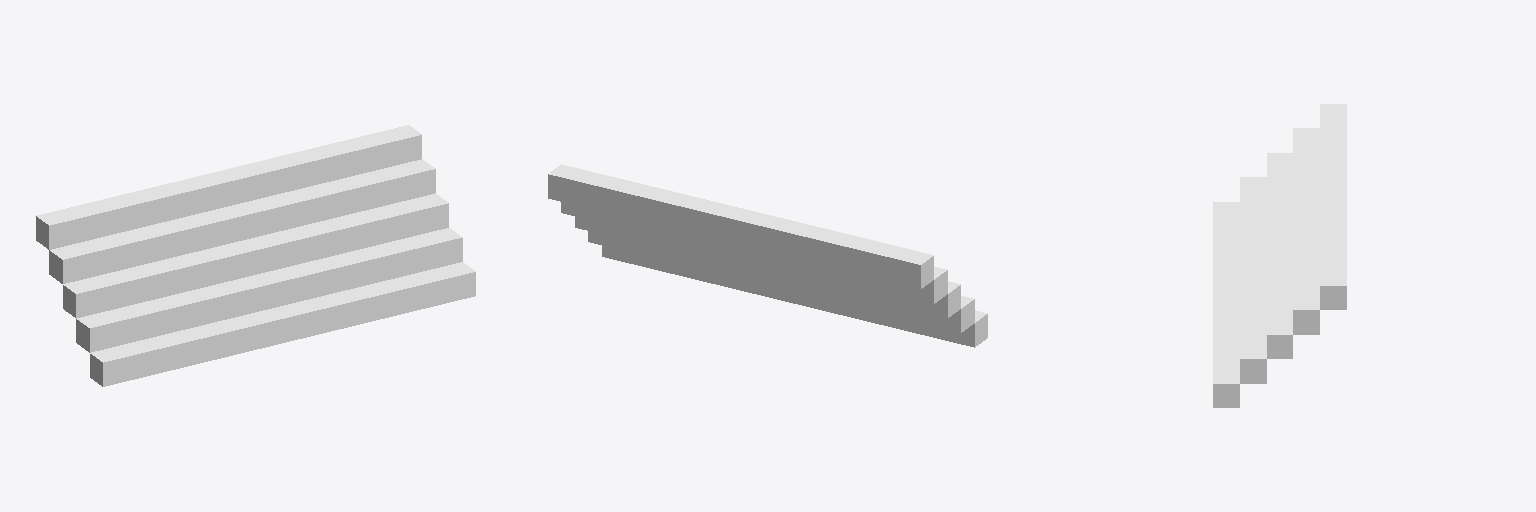
File: House-5-GarageRoof.obj
The picture shows the model from 3 angles: view 1: azimuth 30°, elevation 25°; view 2: azimuth 150°, elevation 25°; view 3: azimuth 270°, elevation 25°; orthographic projection.
Parts seen in each view (by area): view 1: GarageRoof; view 2: GarageRoof; view 3: GarageRoof.
Boxes of the visible parts, x1,y1,x2,y2 form: GarageRoof: [36, 125, 475, 386]; GarageRoof: [548, 164, 987, 347]; GarageRoof: [1213, 104, 1346, 407].
Bounding box in the file's own units: 1.6 × 0.5 × 0.5.